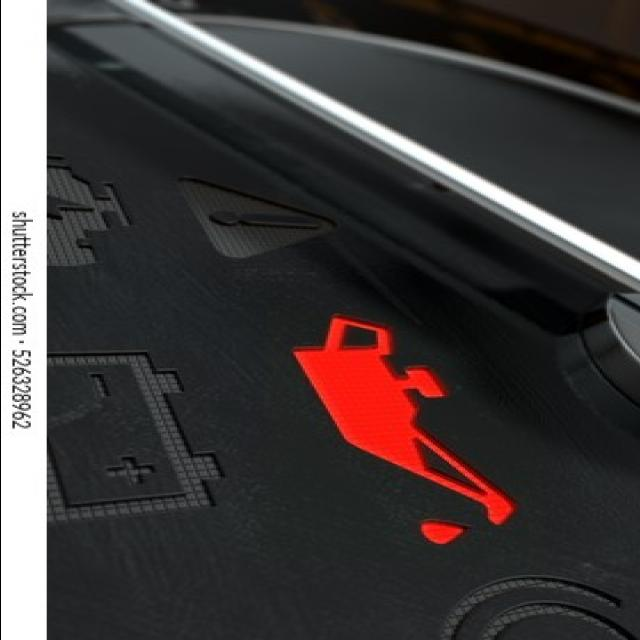Low Engine Oil Warning Light: (286, 308, 522, 548)
